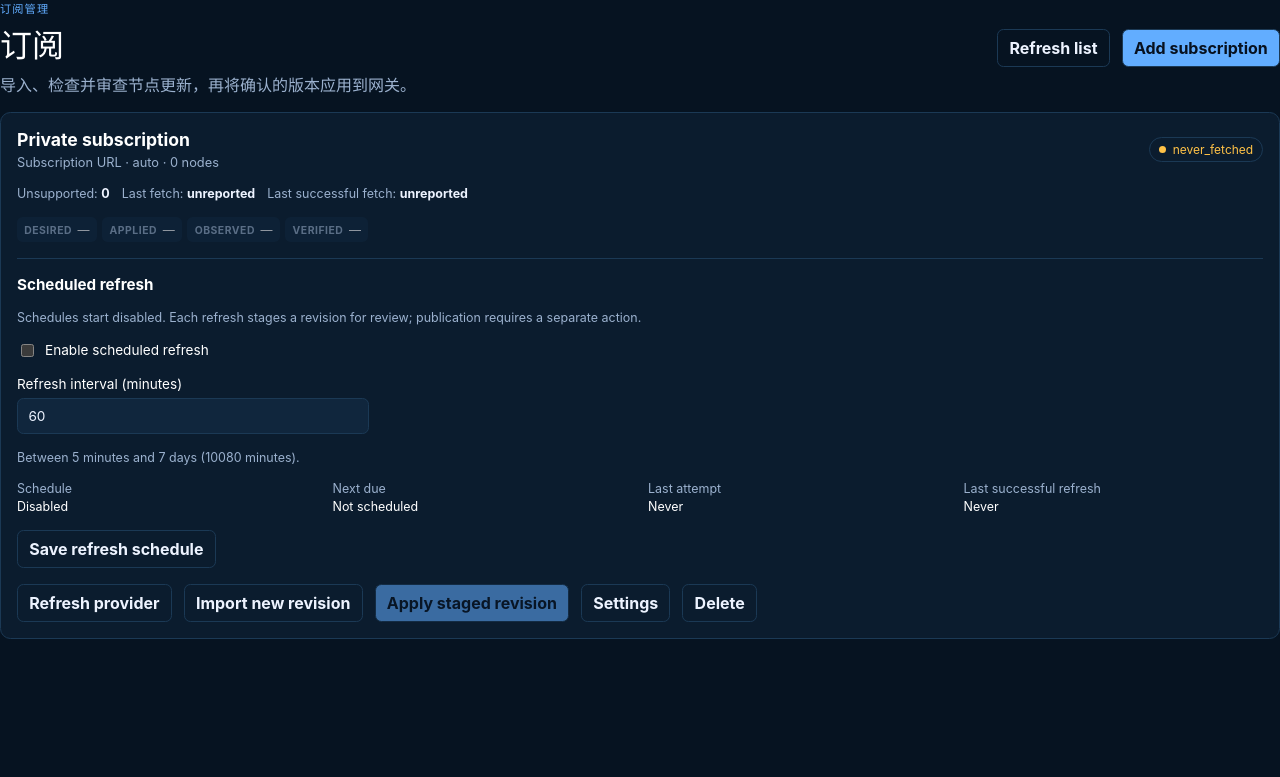
provider settings and deletion › clears replacement credentials after acceptance and retries only readback
Click the button "Settings" at (626, 603), box [581, 584, 670, 622]
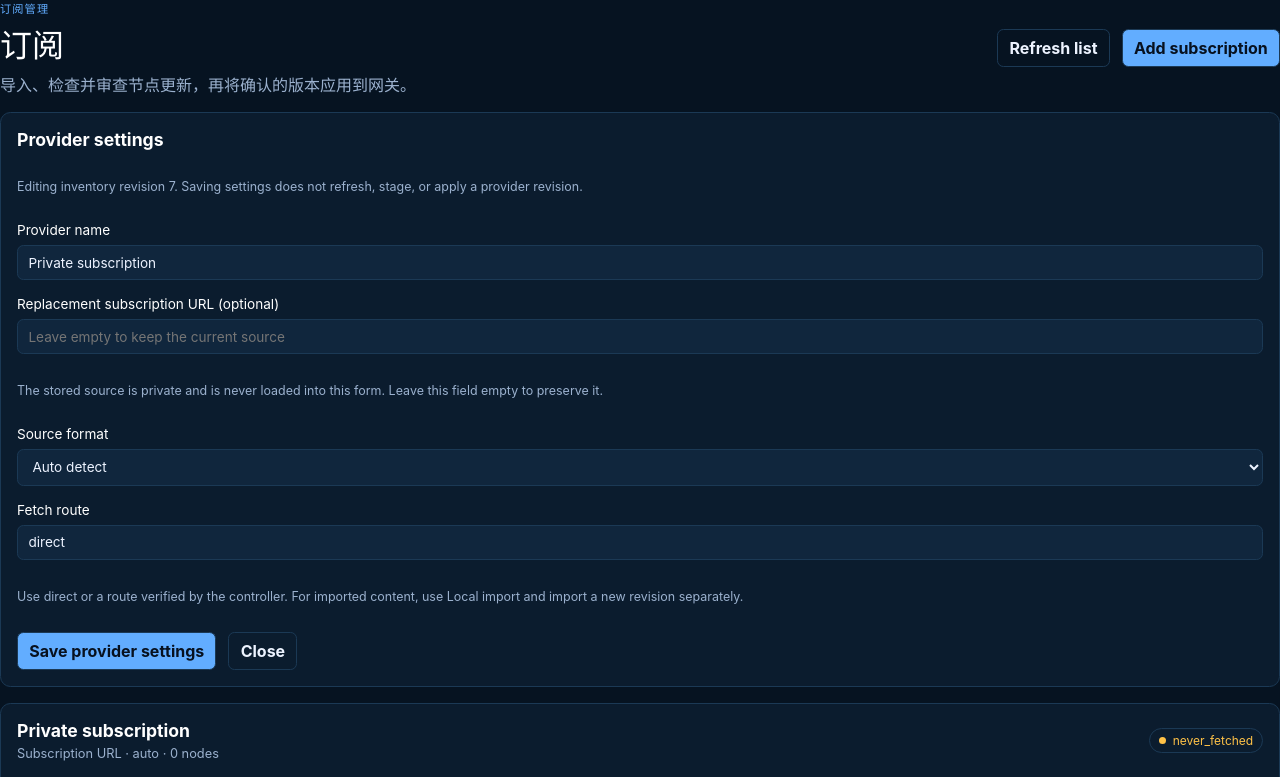
Type "https://example.test/sub?token=new-secret" into the password field labelled "Replacement subscription URL (optional)" at (640, 336), box [17, 319, 1263, 354]
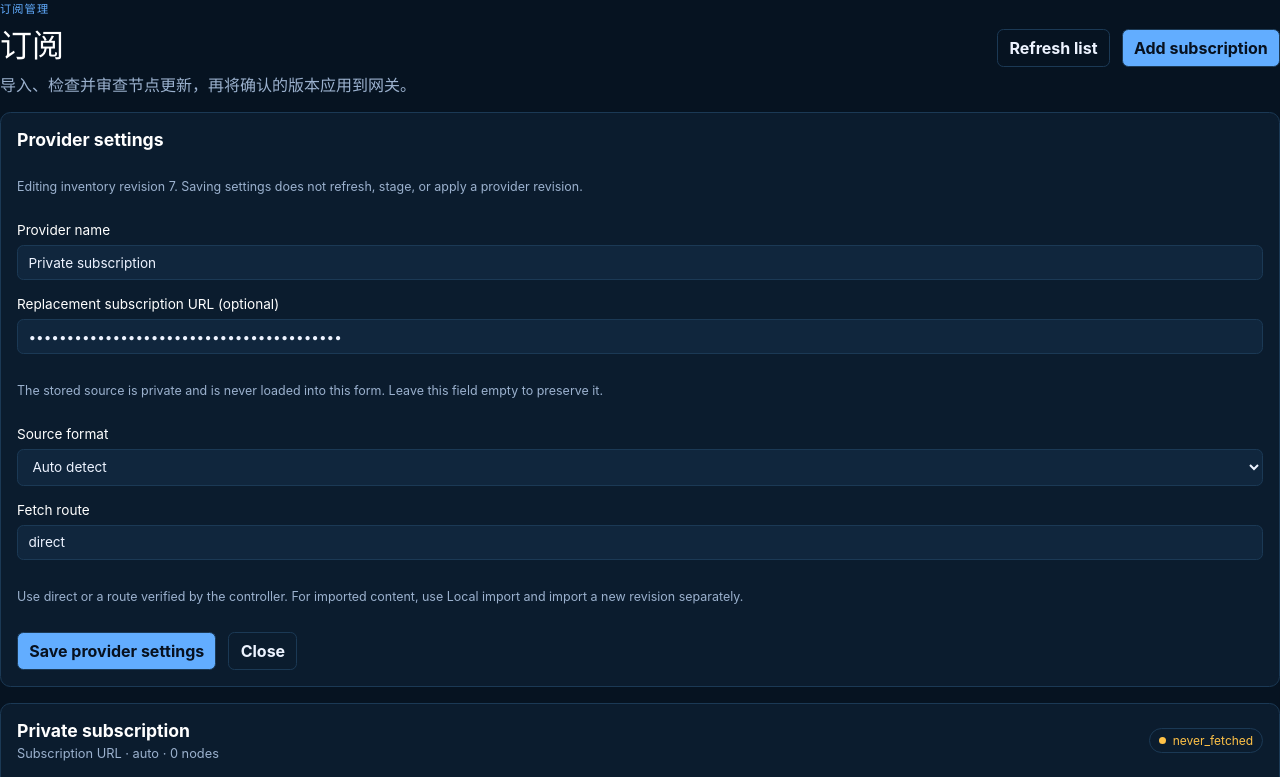
Submit the form named "Provider settings"
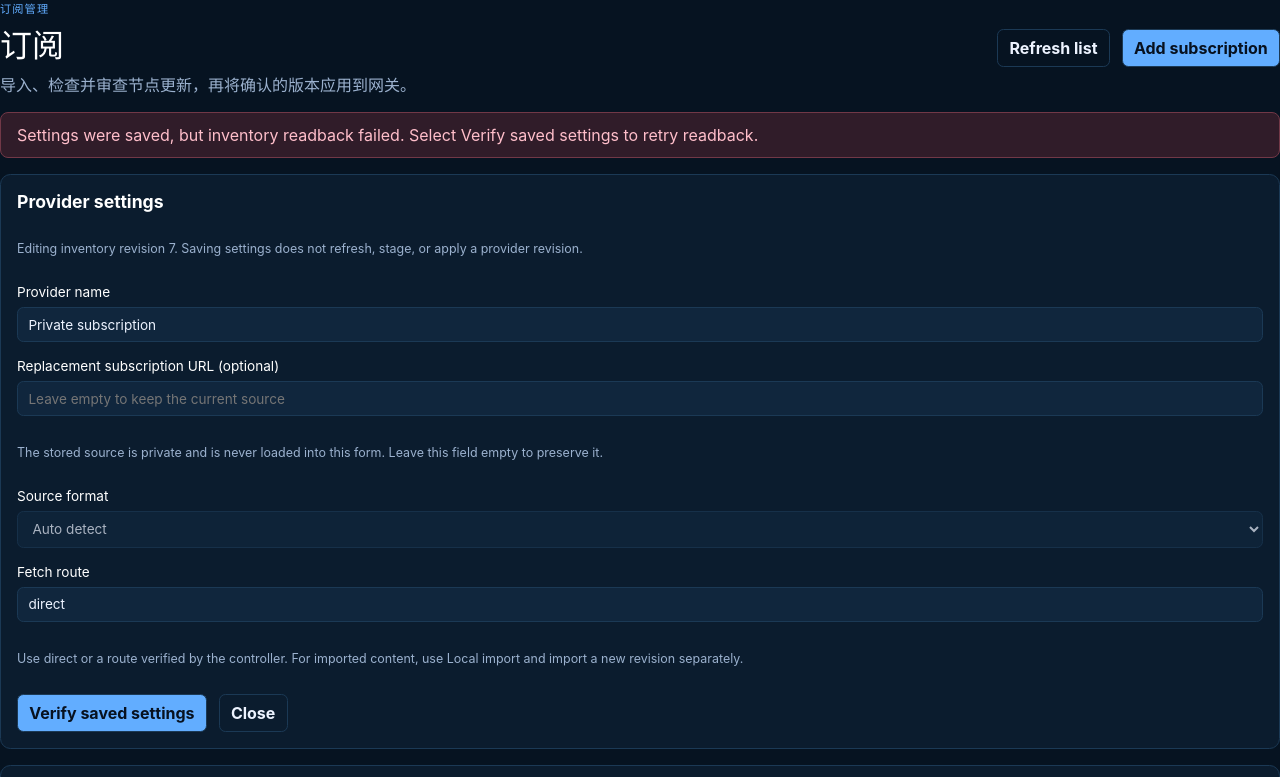
Expected: the text "Settings saved for" is not shown
Expected: the text "Verify saved settings" is shown, [17, 125, 758, 145]
Expected: the password field labelled "Replacement subscription URL (optional)" is empty, [17, 381, 1263, 416]
Submit the form named "Provider settings"
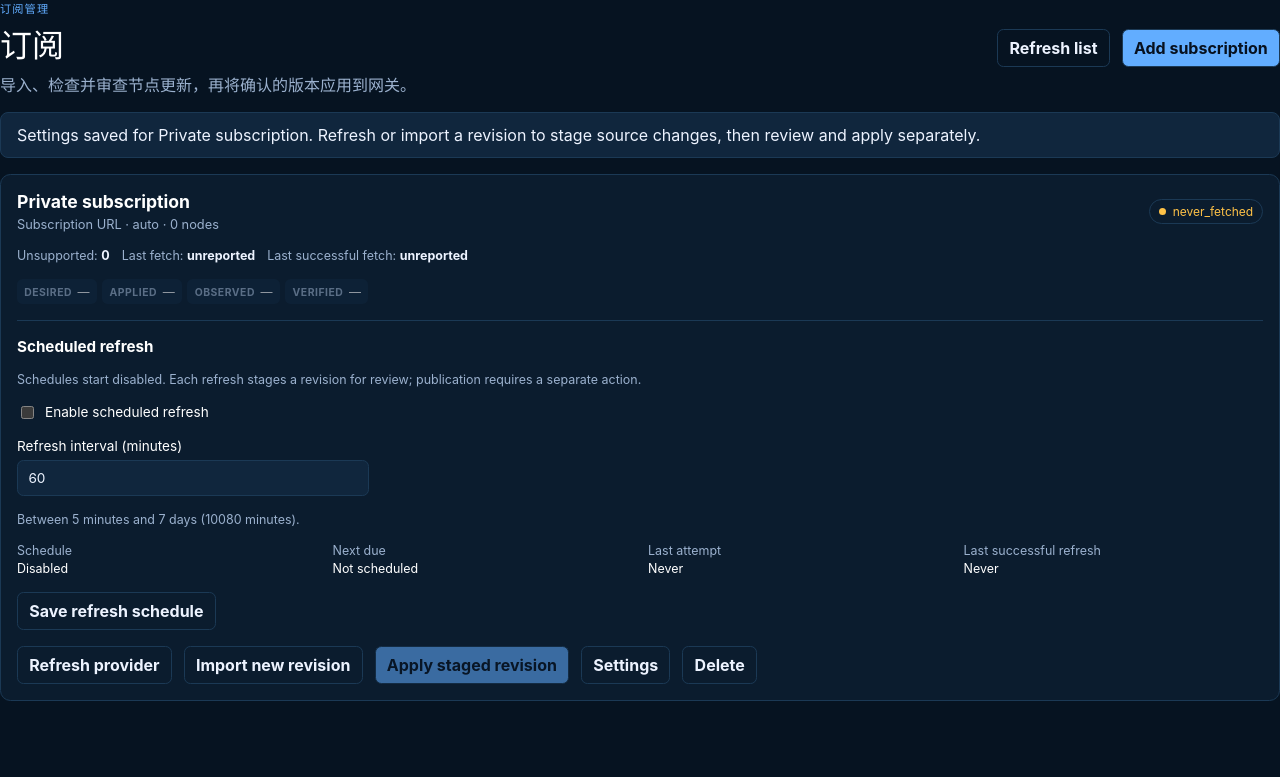
Expected: the text "Settings saved for Private subscription" is shown, [17, 125, 980, 145]
